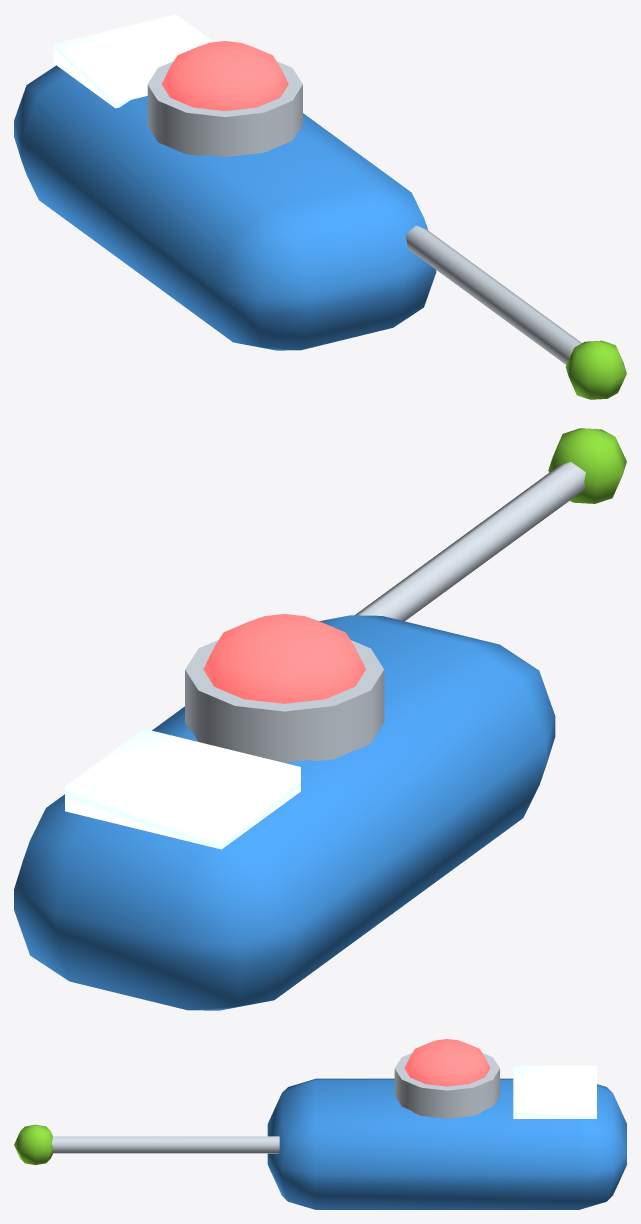
Rendered from Detonator.fbx.
The picture shows the model from 3 angles, top to bottom: view 1: azimuth 30°, elevation 25°; view 2: azimuth 150°, elevation 25°; view 3: azimuth 270°, elevation 25°; orthographic projection. The views are drawn at different scales.
Visible parts, largest first — view 1: Detonator; view 2: Detonator; view 3: Detonator.
Part boxes in pixels (box(x1,y1,x2,y2)): Detonator: box(14, 14, 626, 399); Detonator: box(14, 428, 626, 1010); Detonator: box(14, 1039, 626, 1209).
Size of the model in its own units: 0.07 by 0.0683 by 0.256.
